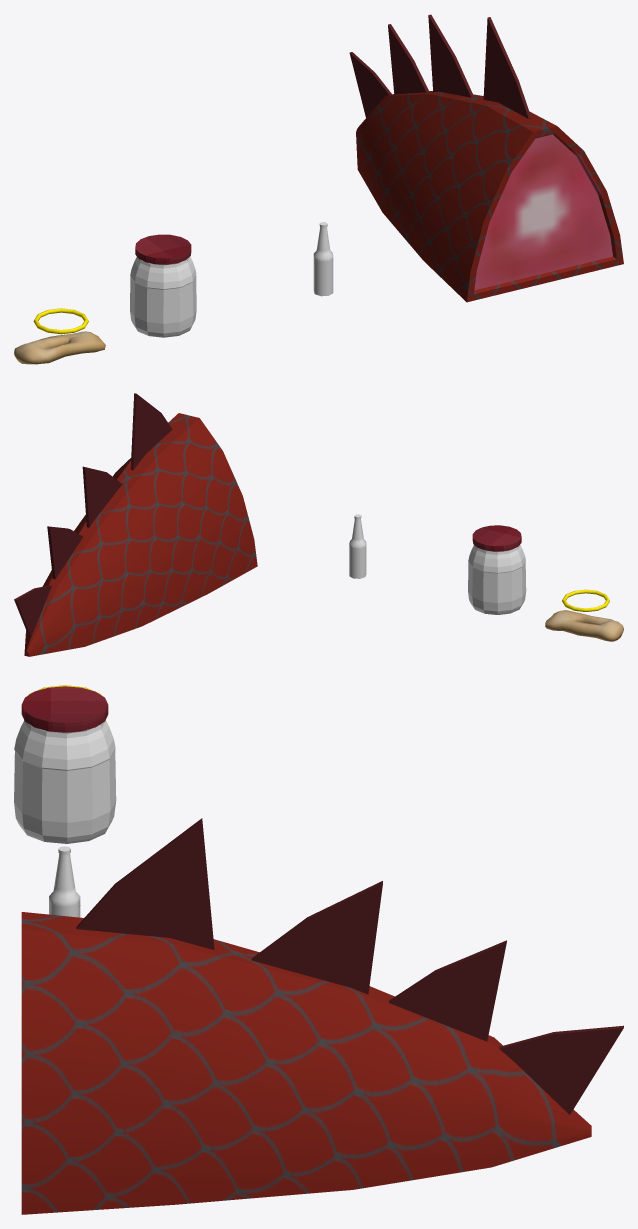
Rendered from blender na fu linuksie.fbx.
3 renders of one model, top to bottom at view 1: azimuth 30°, elevation 25°; view 2: azimuth 150°, elevation 25°; view 3: azimuth 270°, elevation 25°, orthographic. The views are drawn at different scales.
Parts seen in each view (by area): view 1: Cube.001, Grid.002, Plane, Cube, Plane.001, Plane.002, Cylinder, F_BottleOfBeer_01, Plane.003, Torus.002; view 2: Cube.001, Grid.002, Plane, Cube, Plane.001, Cylinder, Plane.002, Plane.003, F_BottleOfBeer_01, Torus.002; view 3: Cube.001, Grid.002, Plane, Plane.001, Plane.002, Plane.003, Cylinder, F_BottleOfBeer_01.
Boxes of the visible parts, x1=… form: Cube.001: x1=356, y1=91, x2=623, y2=302; Grid.002: x1=130, y1=256, x2=196, y2=337; Plane: x1=483, y1=17, x2=531, y2=118; Cube: x1=14, y1=331, x2=105, y2=364; Plane.001: x1=428, y1=14, x2=473, y2=97; Plane.002: x1=388, y1=24, x2=429, y2=94; Cylinder: x1=135, y1=234, x2=191, y2=264; F_BottleOfBeer_01: x1=313, y1=222, x2=333, y2=296; Plane.003: x1=349, y1=52, x2=391, y2=117; Torus.002: x1=33, y1=308, x2=88, y2=334; Cube.001: x1=24, y1=413, x2=257, y2=656; Grid.002: x1=468, y1=544, x2=526, y2=614; Plane: x1=130, y1=393, x2=172, y2=470; Cube: x1=545, y1=610, x2=623, y2=641; Plane.001: x1=82, y1=466, x2=122, y2=527; Cylinder: x1=472, y1=525, x2=521, y2=551; Plane.002: x1=47, y1=526, x2=82, y2=579; Plane.003: x1=14, y1=585, x2=51, y2=637; F_BottleOfBeer_01: x1=349, y1=514, x2=366, y2=578; Torus.002: x1=562, y1=589, x2=609, y2=611; Cube.001: x1=21, y1=912, x2=591, y2=1214; Grid.002: x1=14, y1=720, x2=116, y2=843; Plane: x1=76, y1=818, x2=214, y2=949; Plane.001: x1=251, y1=881, x2=382, y2=994; Plane.002: x1=389, y1=940, x2=506, y2=1041; Plane.003: x1=499, y1=1025, x2=623, y2=1114; Cylinder: x1=21, y1=686, x2=108, y2=732; F_BottleOfBeer_01: x1=49, y1=846, x2=80, y2=917.
Bounding box in the file's own units: 610 × 220 × 358.
Materials: 5 (5 with a texture image).
